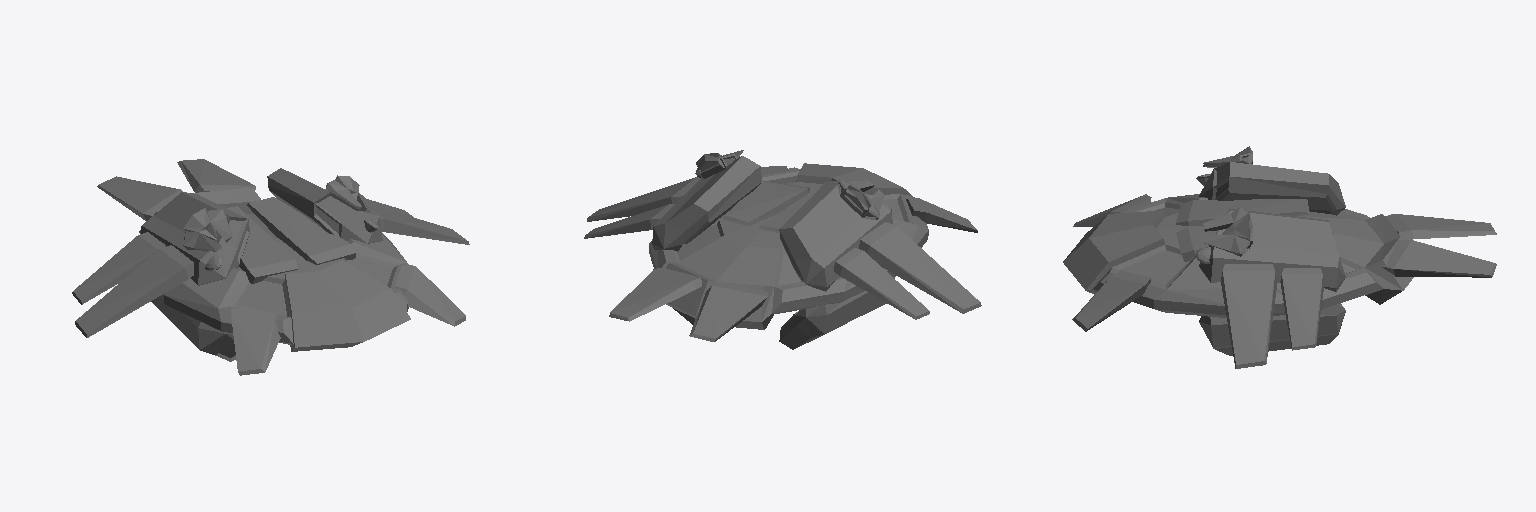
3 renders of one model, left to right at view 1: azimuth 30°, elevation 25°; view 2: azimuth 150°, elevation 25°; view 3: azimuth 270°, elevation 25°, orthographic.
Visible parts, largest first — view 1: alotechBattleship; view 2: alotechBattleship; view 3: alotechBattleship.
Part boxes in pixels (x1,y1,x2,y2): alotechBattleship: (72,159,469,375); alotechBattleship: (584,150,981,349); alotechBattleship: (1063,146,1496,368).
Size of the model in its own units: 2.5 by 0.9436 by 2.45.